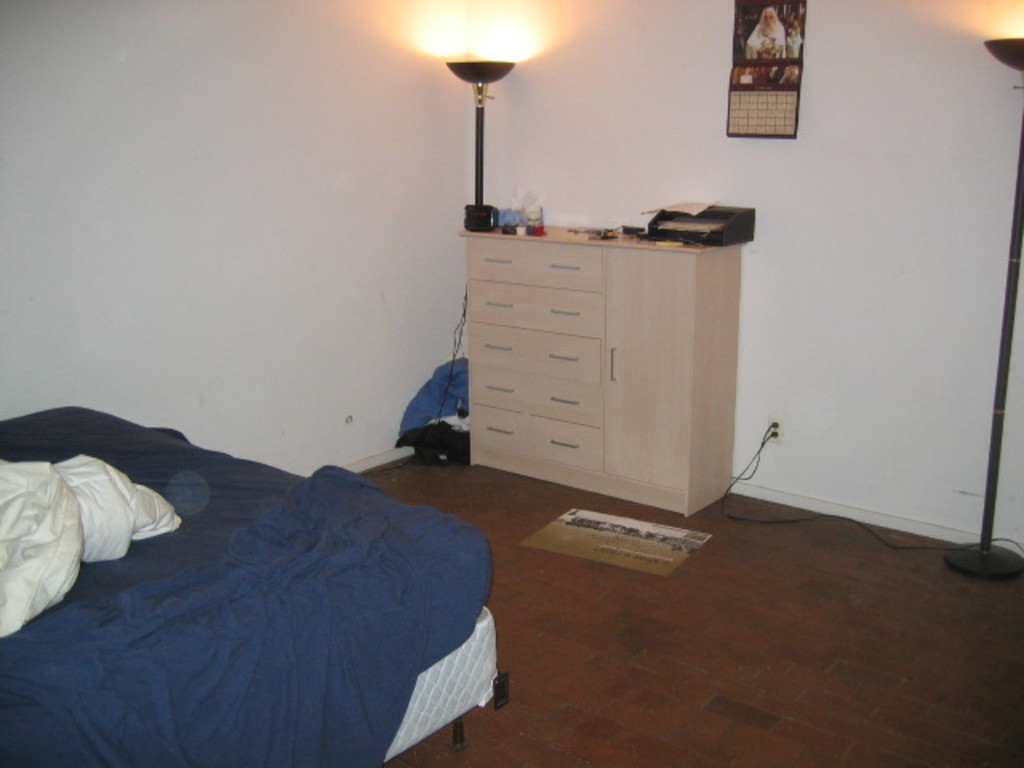cabinet door: (603, 255, 679, 485), (534, 422, 596, 467), (537, 247, 600, 289), (537, 288, 598, 329), (537, 338, 594, 378), (476, 282, 532, 321), (475, 246, 534, 281), (481, 414, 526, 458), (476, 329, 532, 362), (475, 373, 537, 401), (541, 385, 594, 417)
handle: (547, 432, 582, 451), (550, 301, 580, 319), (607, 349, 621, 387), (486, 295, 518, 311), (484, 379, 514, 395), (487, 425, 514, 442), (547, 261, 582, 274), (548, 397, 582, 410), (486, 251, 511, 267), (486, 338, 514, 352), (546, 350, 578, 361)
